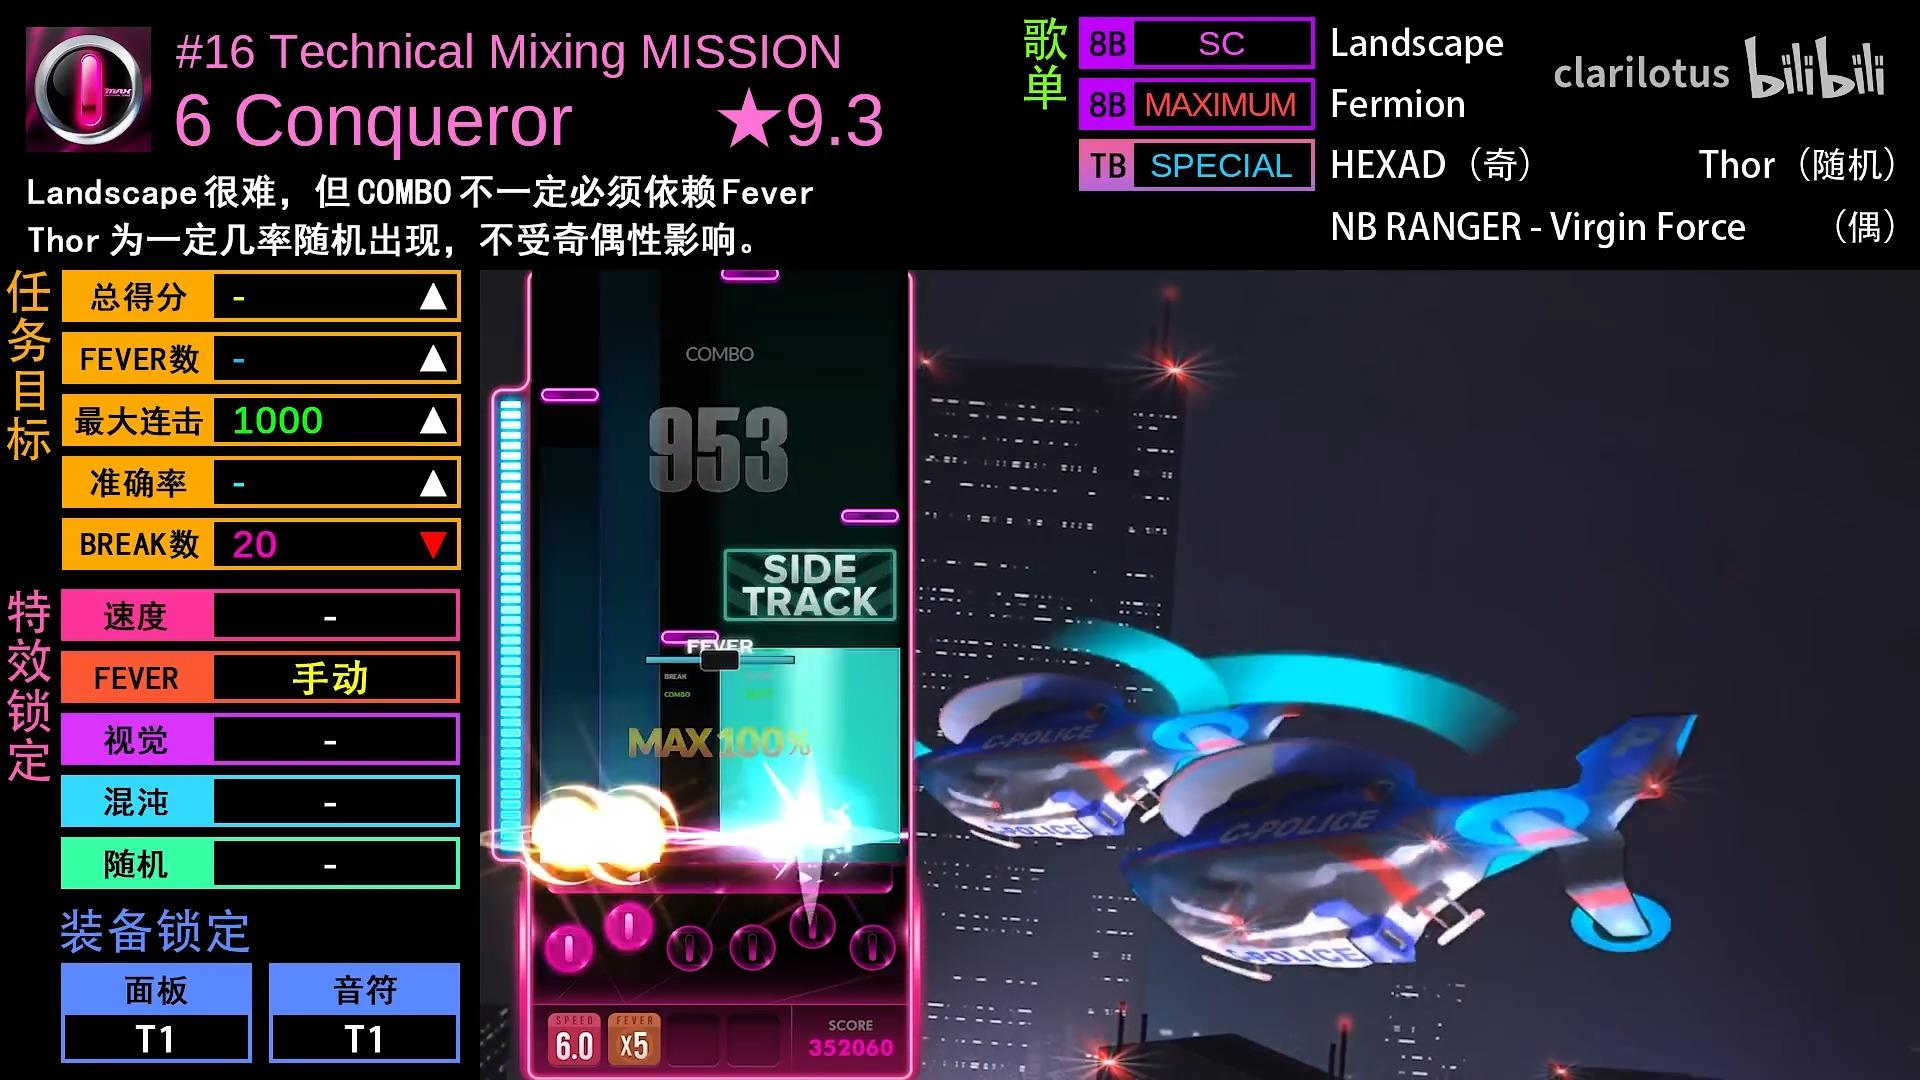note: (661, 630, 720, 646), (541, 388, 600, 402), (841, 509, 899, 524), (720, 269, 779, 282)
side-end: (717, 647, 901, 674)
